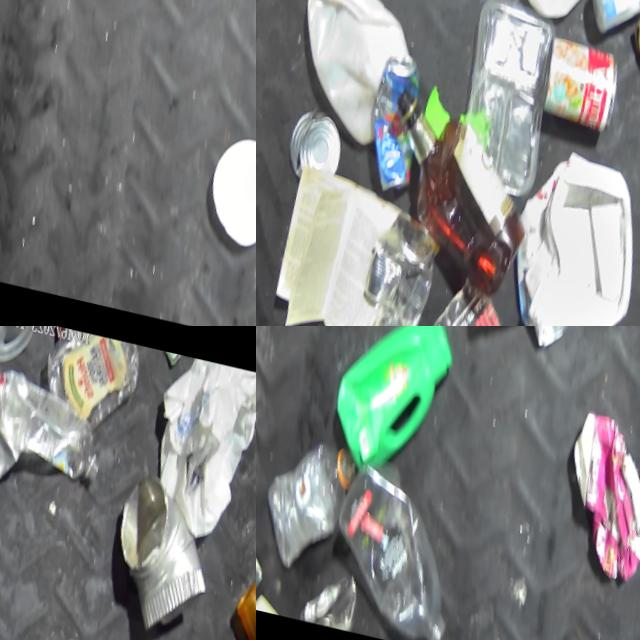can: (345, 46, 428, 189), (341, 210, 441, 315), (530, 35, 623, 131), (277, 102, 344, 184), (547, 630, 636, 640)
milk_jug: (273, 0, 405, 128)
non_white_jug: (307, 326, 464, 477)
plastic_bottle: (296, 460, 466, 640), (256, 437, 356, 582), (0, 368, 110, 481)
